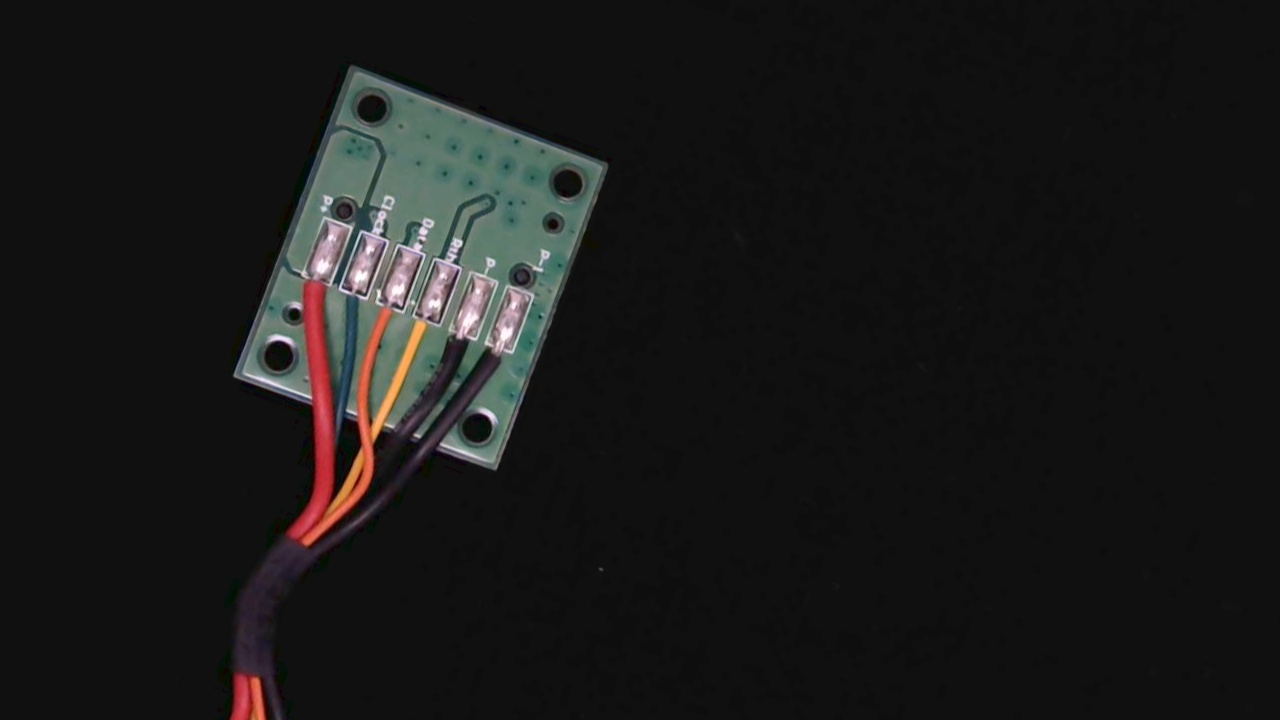Black: (430, 312, 478, 381)
Black1: (469, 327, 516, 393)
Green: (323, 273, 373, 340)
Orange: (357, 285, 409, 354)
Red: (286, 261, 334, 331)
Yellow: (392, 298, 444, 374)
